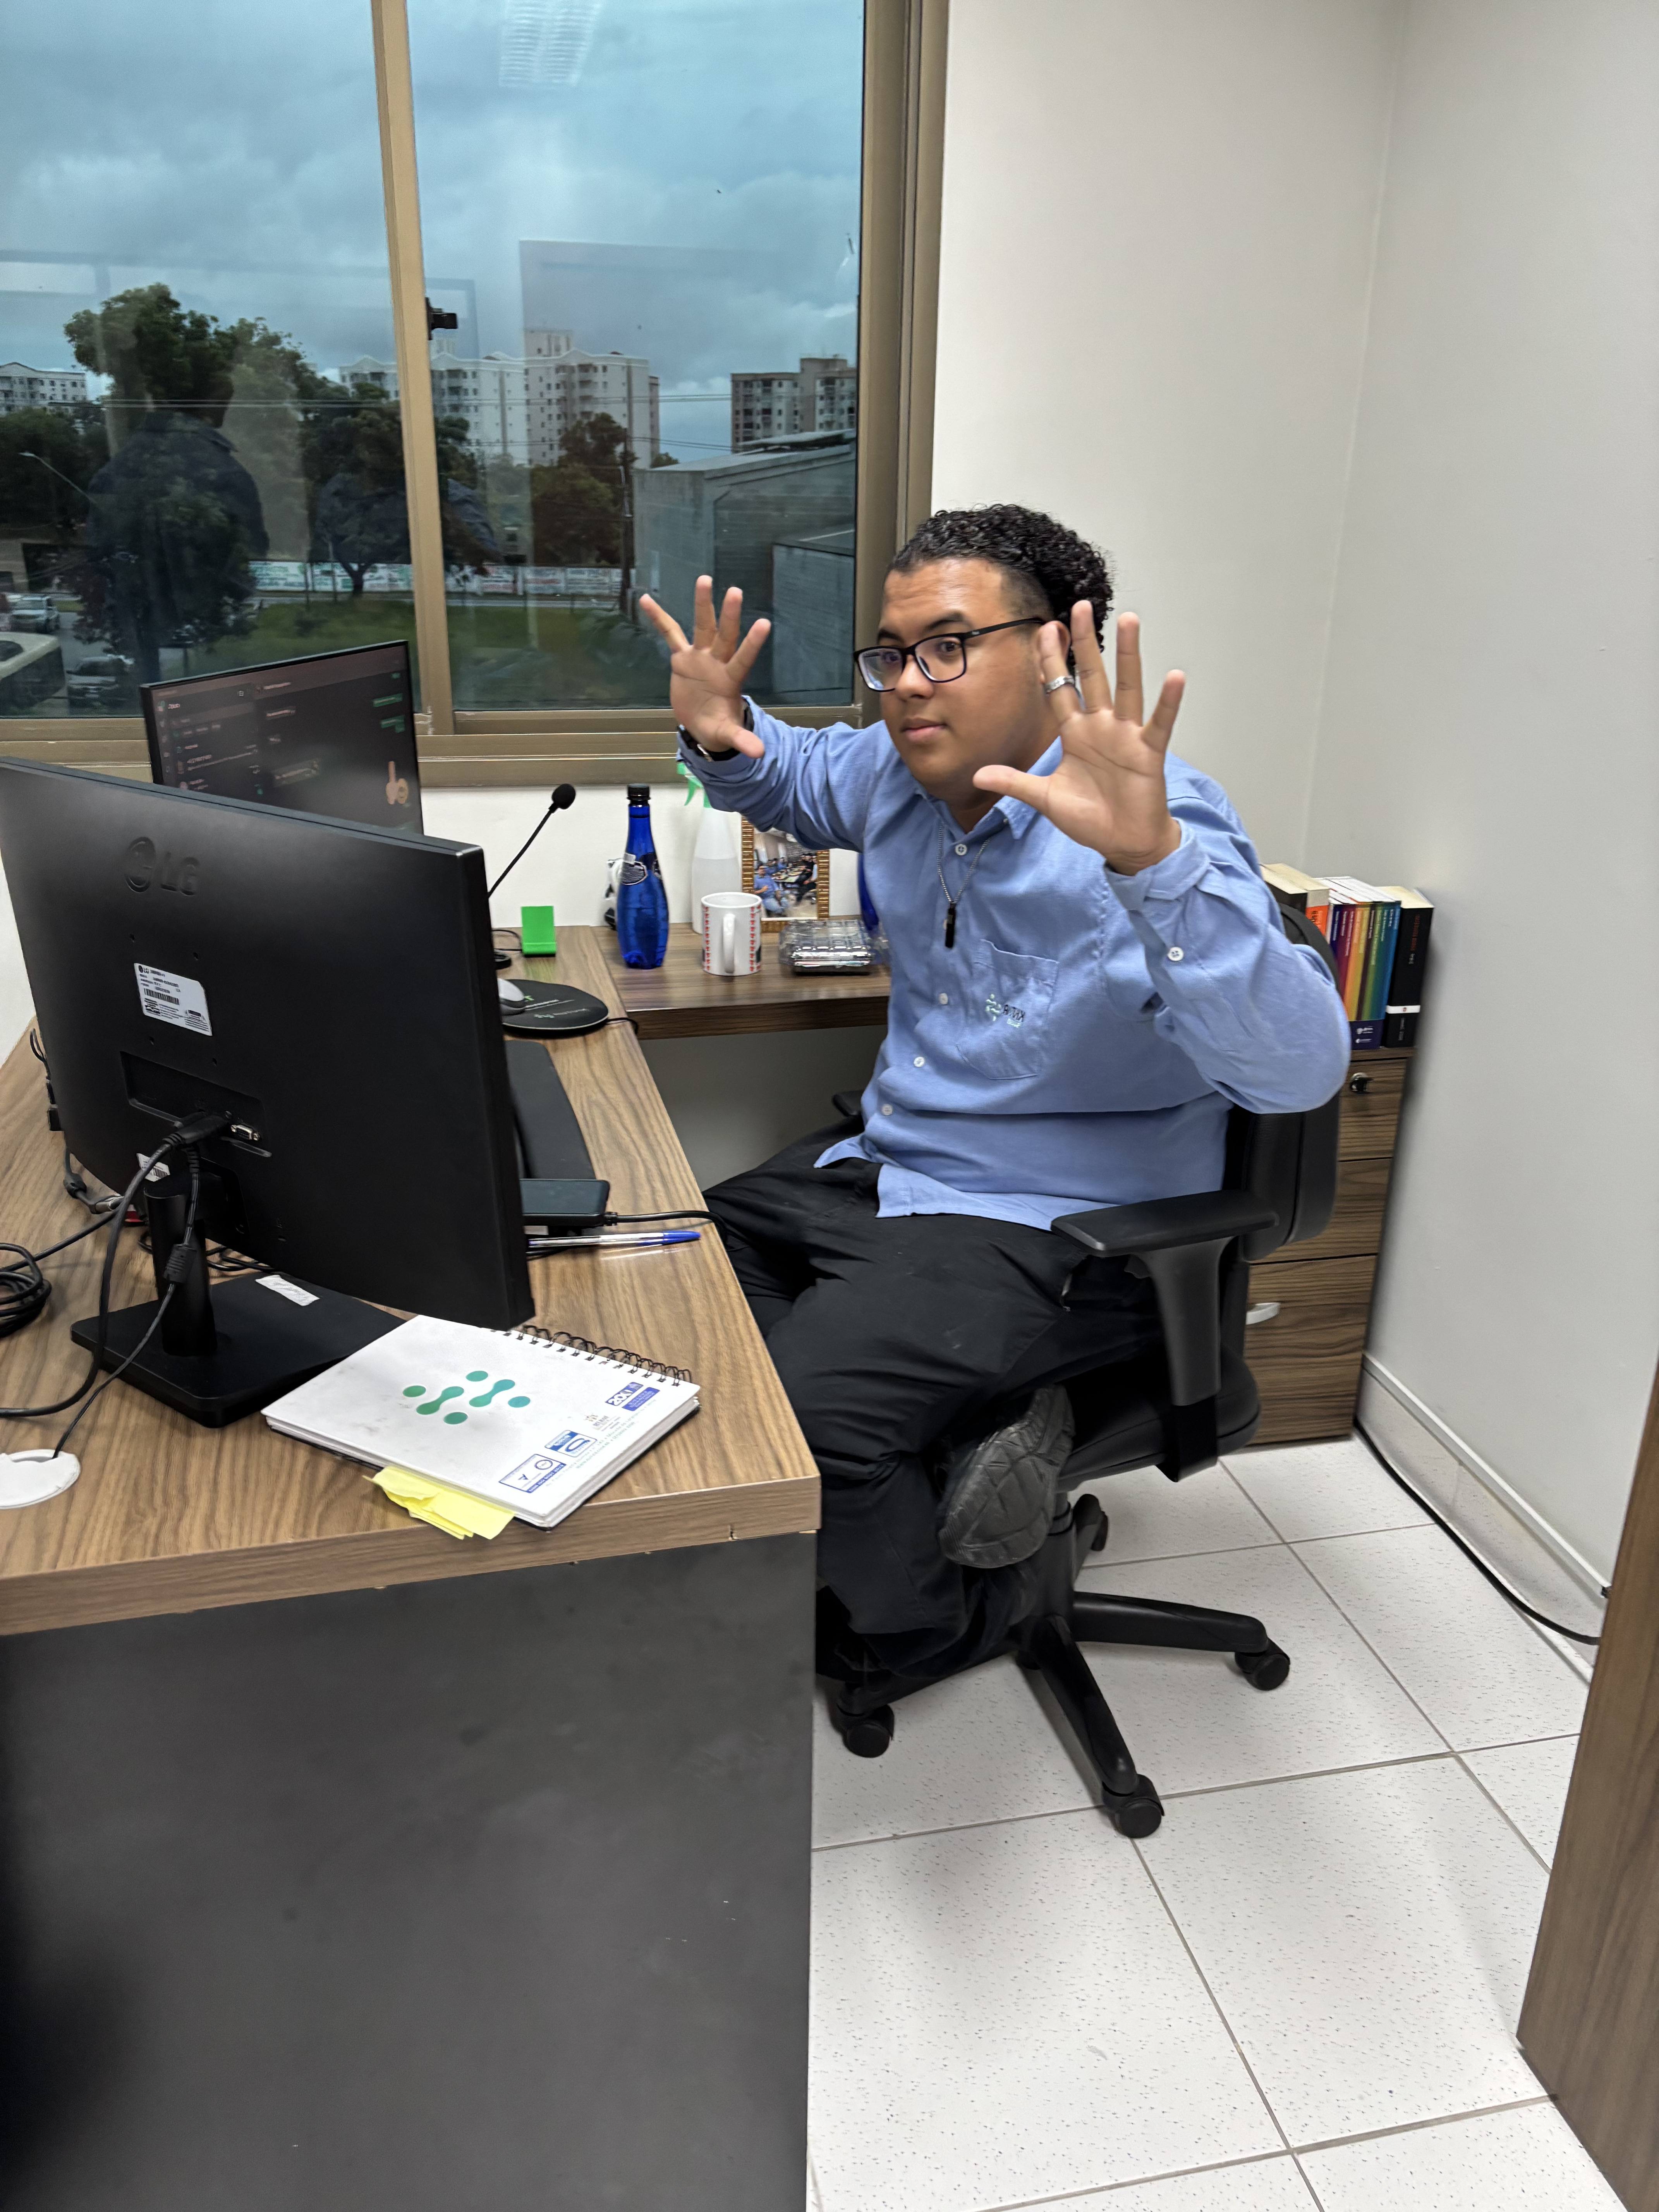no-gloves: (976, 604, 1188, 845), (636, 578, 775, 761)
